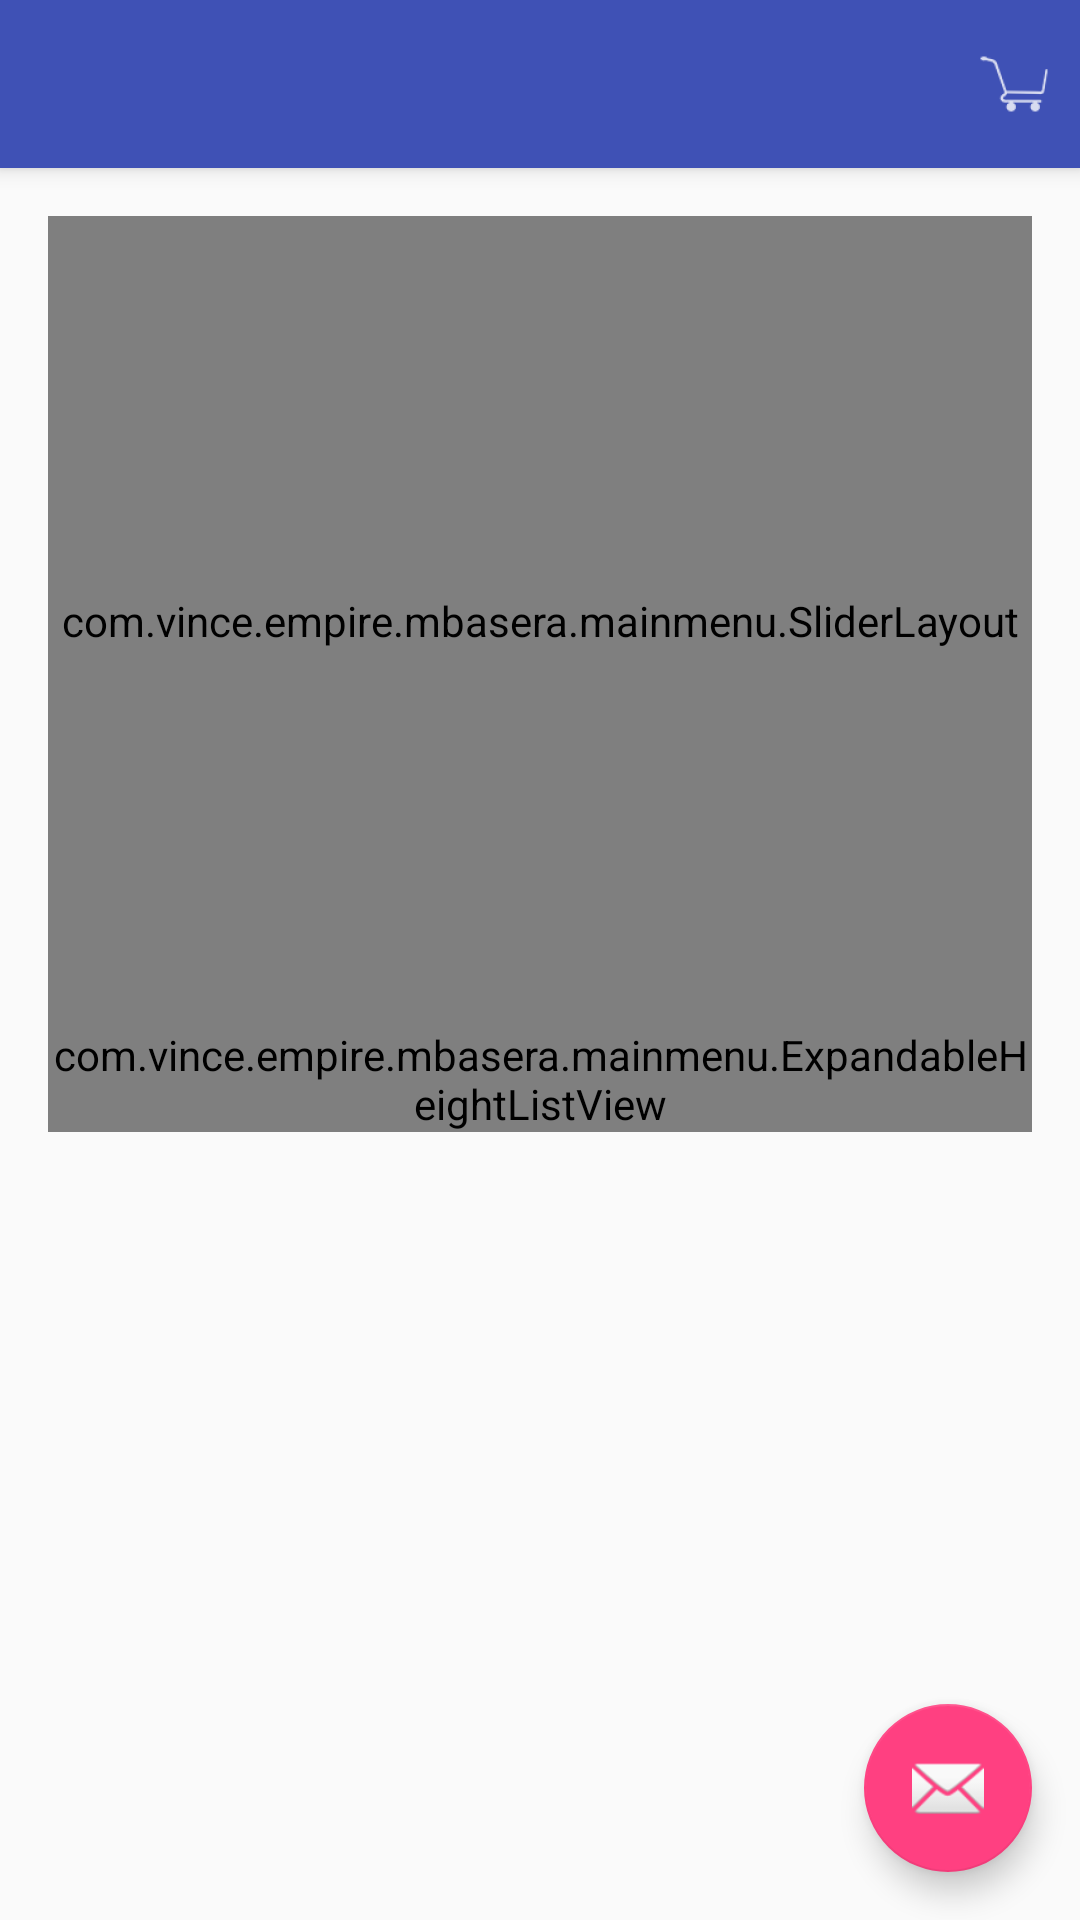

Where to tap for icons on this 1080w x 1920h app screen, as (x=x, y=y):
cart: (x=1014, y=84)
email: (x=948, y=1788)
